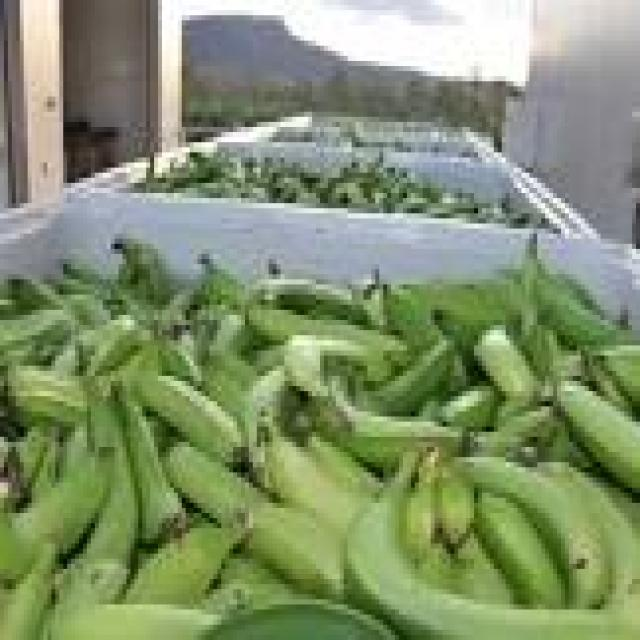banana: (348, 478, 639, 639), (166, 447, 343, 599), (459, 458, 612, 604), (546, 463, 639, 604), (324, 392, 462, 472), (265, 432, 367, 538), (475, 493, 564, 609), (119, 392, 185, 543), (83, 397, 142, 563), (12, 458, 110, 553), (127, 524, 240, 604), (135, 376, 240, 462), (249, 503, 343, 599), (558, 381, 639, 492), (245, 305, 406, 360), (166, 442, 264, 523), (538, 270, 628, 350), (281, 336, 387, 401), (372, 341, 454, 416), (249, 275, 367, 325), (48, 559, 130, 629), (52, 605, 217, 639), (0, 544, 55, 639), (241, 366, 288, 472), (305, 432, 379, 497), (8, 366, 86, 426), (475, 326, 537, 401), (475, 407, 560, 457), (455, 534, 513, 604), (202, 580, 300, 619), (115, 239, 173, 304), (384, 285, 442, 350), (222, 554, 296, 604), (87, 315, 146, 375), (0, 310, 75, 355), (403, 468, 438, 563), (435, 463, 474, 548), (194, 254, 248, 309), (546, 417, 596, 472), (597, 478, 639, 543), (585, 356, 632, 411), (439, 387, 497, 431), (597, 346, 639, 406), (0, 503, 31, 584), (202, 371, 252, 421), (8, 275, 63, 314), (419, 539, 458, 594), (159, 336, 201, 386), (28, 437, 63, 497), (12, 432, 47, 487), (202, 351, 256, 386), (210, 315, 256, 355), (60, 422, 90, 477), (64, 290, 110, 325), (494, 397, 533, 426), (52, 341, 82, 375)
